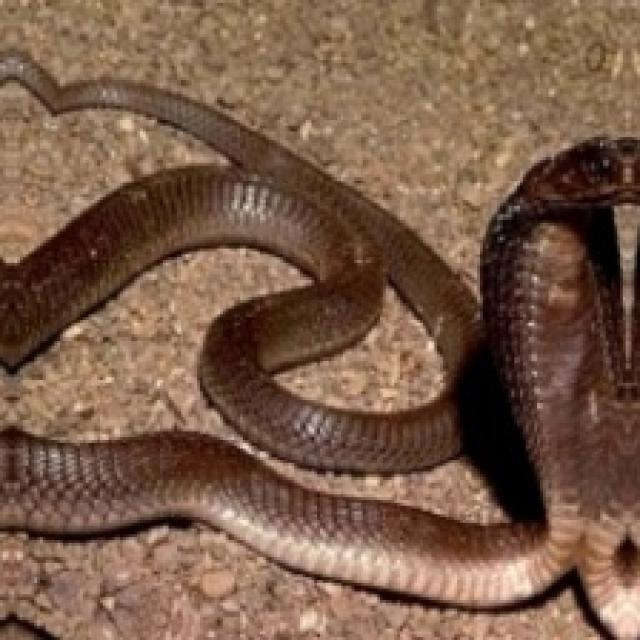philippine cobra: (0, 51, 637, 637), (269, 240, 446, 414)
